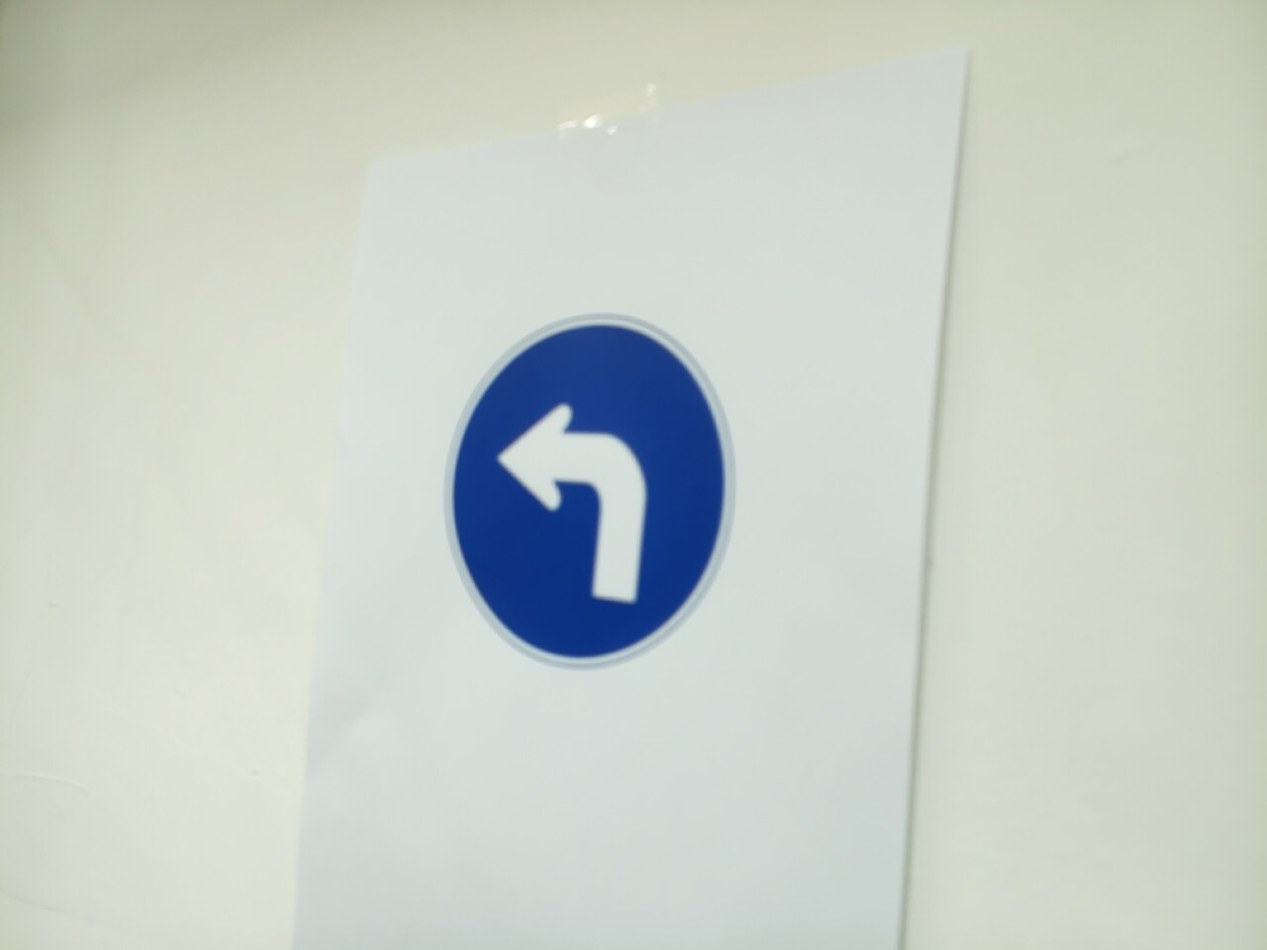left_turn: (444, 315, 733, 668)
